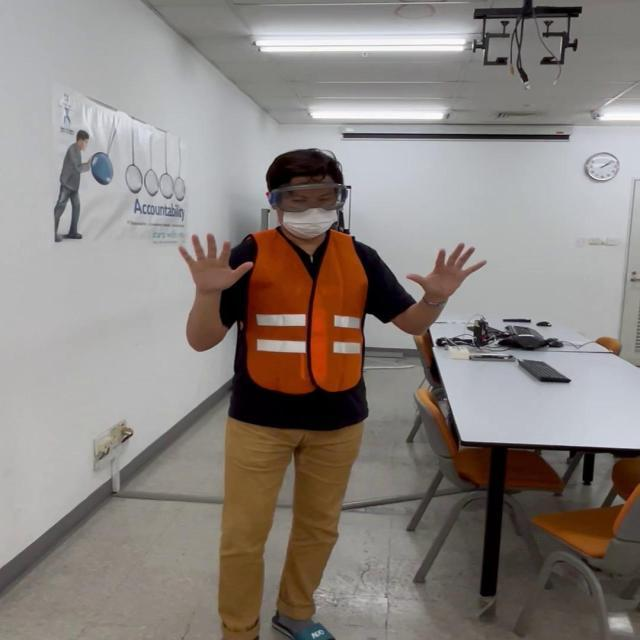bare_hand: (174, 226, 255, 293), (403, 239, 487, 302)
